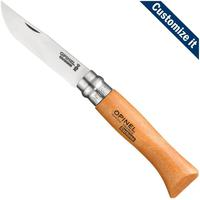knife: (1, 1, 193, 189)
